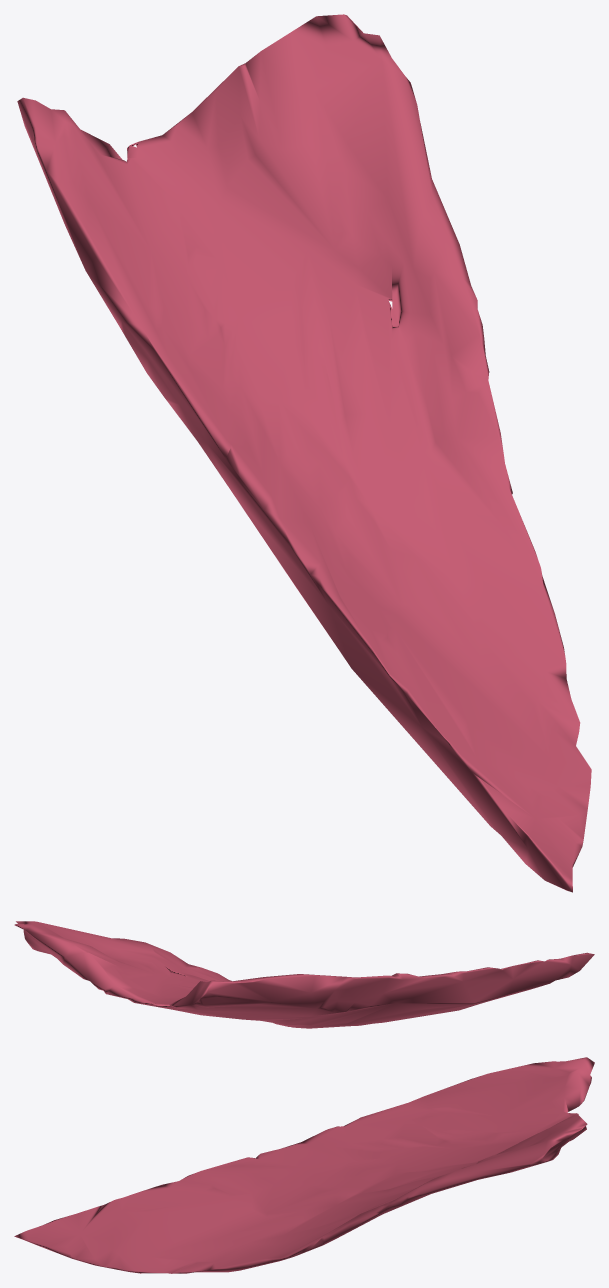
3 renders of one model, top to bottom at view 1: azimuth 30°, elevation 25°; view 2: azimuth 150°, elevation 25°; view 3: azimuth 270°, elevation 25°, orthographic. The views are drawn at different scales.
Parts seen in each view (by area): view 1: 左侧锥状肌; view 2: 左侧锥状肌; view 3: 左侧锥状肌.
Boxes of the visible parts, <box> form: 左侧锥状肌: <box>17,14,591,892</box>; 左侧锥状肌: <box>14,921,594,1028</box>; 左侧锥状肌: <box>14,1057,594,1273</box>.
Bounding box in the file's own units: 0.0411 × 0.0397 × 0.1057.
